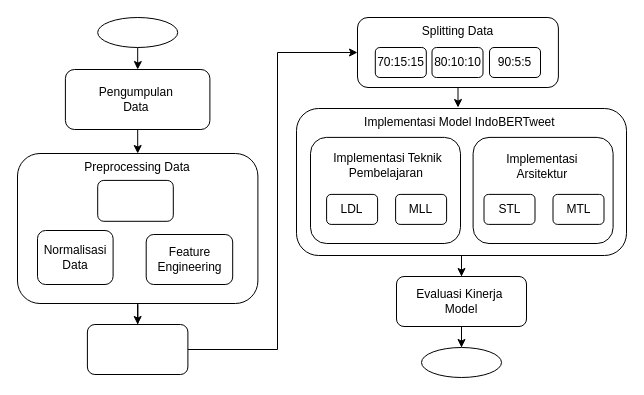
Some shapes in this 644 by 395 pixel diagram are drawn without their labels. Each missing label, with the centre of its shape:
Balancing Data: the point at 137,349
Data Cleaning: the point at 135,200
END: the point at 461,362
START: the point at 137,32
